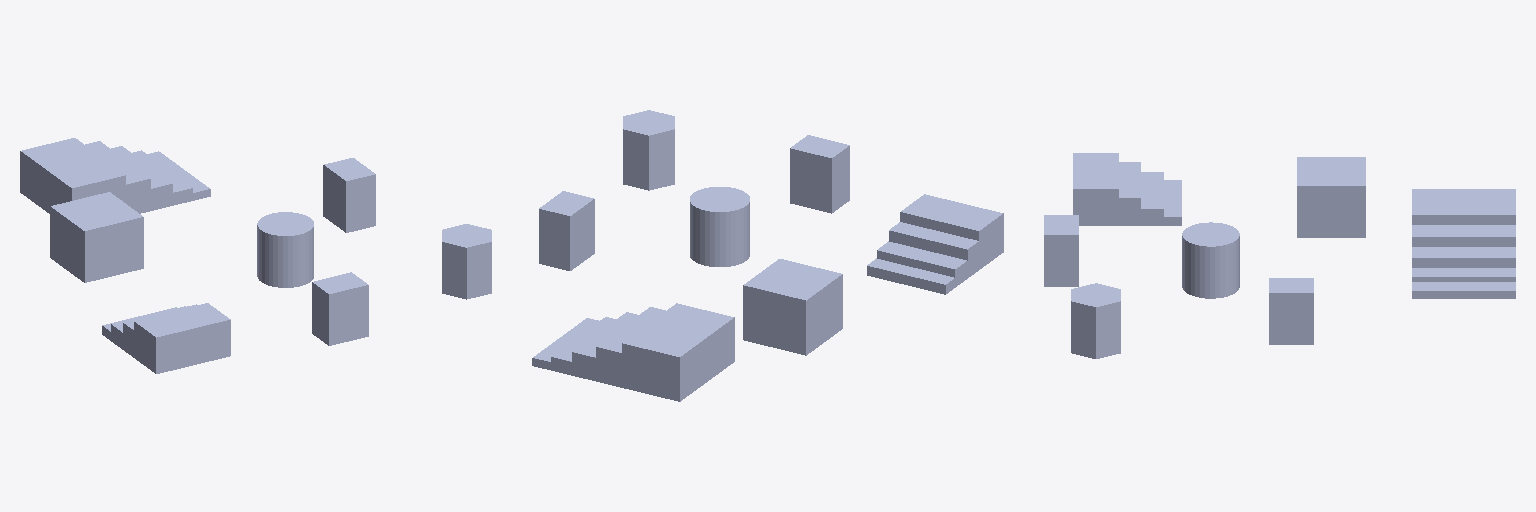
robot.urdf — sim-sence:
<?xml version="1.0" encoding="utf-8"?>
<!-- This URDF was automatically created by SolidWorks to URDF Exporter! Originally created by [author] ([email redacted]) 
     Commit Version: 1.6.0-1-g15f4949  Build Version: 1.6.7594.29634
     For more information, please see http://wiki.ros.org/sw_urdf_exporter -->
<robot
  name="sim-sence">
  <link
    name="base_link">
    <inertial>
      <origin
        xyz="-1.9448900203865 2.39125129906968 0.488298723994792"
        rpy="0 0 0" />
      <mass
        value="7502.76721623578" />
      <inertia
        ixx="3481.27358280391"
        ixy="645.617174387584"
        ixz="208.368031641834"
        iyy="2192.17505254401"
        iyz="-409.501320667412"
        izz="4242.96311712771" />
    </inertial>
    <visual>
      <origin
        xyz="0 0 0"
        rpy="0 0 0" />
      <geometry>
        <mesh
          filename="package://sim-sence/meshes/base_link.STL" />
      </geometry>
      <material
        name="">
        <color
          rgba="0.792156862745098 0.819607843137255 0.933333333333333 1" />
      </material>
    </visual>
    <collision>
      <origin
        xyz="0 0 0"
        rpy="0 0 0" />
      <geometry>
        <mesh
          filename="package://sim-sence/meshes/base_link.STL" />
      </geometry>
    </collision>
  </link>
  
   <!-- Depth Camera Link -->
  <link name="depth_camera_link">
    <inertial>
      <mass value="0.1"/>
      <origin xyz="0 0 0"/>
      <inertia ixx="0.01" ixy="0" ixz="0" iyy="0.01" iyz="0" izz="0.01"/>
    </inertial>
  </link>

  <!-- Joint connecting base and depth camera -->
  <joint name="depth_camera_joint" type="fixed">
    <parent link="base_link"/>
    <child link="depth_camera_link"/>
    <origin xyz="-1 2.5 28" rpy="0 1.5707963 0"/>
  </joint>

  <!-- Gazebo Plugin for Depth Camera -->
  <gazebo reference="depth_camera_link">
    <sensor name="depth_camera_sensor" type="depth">
      <always_on>true</always_on>
      <update_rate>30.0</update_rate>
      <camera>
        <horizontal_fov>1.047</horizontal_fov>
        <image>
          <width>3000</width>
          <height>3000</height>
          <format>R8G8B8</format>
        </image>
        <clip>
          <near>0.1</near>
          <far>30</far>
        </clip>
      </camera>
      <plugin name="depth_camera_controller" filename="libgazebo_ros_depth_camera.so">
        <alwaysOn>true</alwaysOn>
        <updateRate>30</updateRate>
        <cameraName>depth_camera</cameraName>
        <imageTopicName>depth_camera/image_raw</imageTopicName>
        <depthImageTopicName>depth_camera/depth/image_raw</depthImageTopicName>
        <pointCloudTopicName>depth_camera/points</pointCloudTopicName>
        <cameraInfoTopicName>depth_camera/camera_info</cameraInfoTopicName>
        <frameName>depth_camera_link</frameName>
        <pointCloudCutoff>0.4</pointCloudCutoff>
      </plugin>
    </sensor>
  </gazebo>
  
</robot>

--- Facts derived from the render (not from the file) ---
The picture shows the robot from 3 angles, left to right: view 1: azimuth 30°, elevation 25°; view 2: azimuth 150°, elevation 25°; view 3: azimuth 270°, elevation 25°; orthographic projection.
Robot: sim-sence — 2 links, 1 joints (1 fixed); root link base_link; default pose: all joints at 0.
Links seen in each view (by area): view 1: base_link; view 2: base_link; view 3: base_link.
Boxes of the visible links, <box> form: base_link: <box>20,138,491,373</box>; base_link: <box>532,110,1003,401</box>; base_link: <box>1044,153,1515,358</box>.
Bounding box of the posed robot: 7 × 8.2 × 1 m (x, y, z).
1 mesh visuals loaded from 1 distinct referenced files (1 binary STL).
